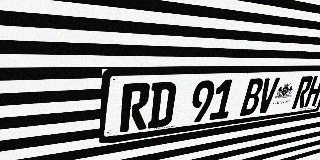1: (209, 79, 236, 120)
9: (188, 80, 216, 123)
B: (239, 78, 265, 116)
D: (147, 82, 177, 129)
H: (304, 76, 320, 107)
R: (120, 83, 151, 133), (291, 76, 314, 109)
V: (256, 77, 280, 114)
